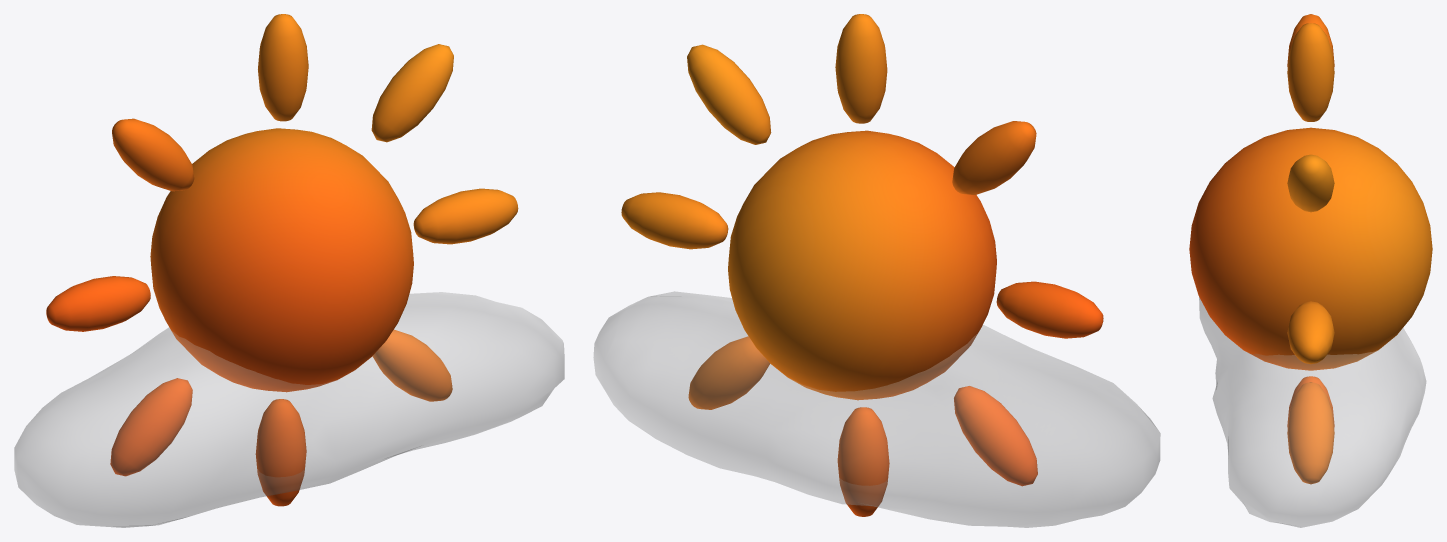
File: 5_UdaraKabur.fbx
3 renders of one model, left to right at view 1: azimuth 30°, elevation 25°; view 2: azimuth 150°, elevation 25°; view 3: azimuth 270°, elevation 25°, orthographic. The views are drawn at different scales.
Visible parts, largest first — view 1: UdaraKabur; view 2: UdaraKabur; view 3: UdaraKabur.
Boxes of the visible parts, left/top/right/bottom form: UdaraKabur: left=14, top=14, right=564, bottom=527; UdaraKabur: left=593, top=14, right=1160, bottom=527; UdaraKabur: left=1189, top=14, right=1432, bottom=527.
Bounding box in the file's own units: 468 × 411 × 200.
